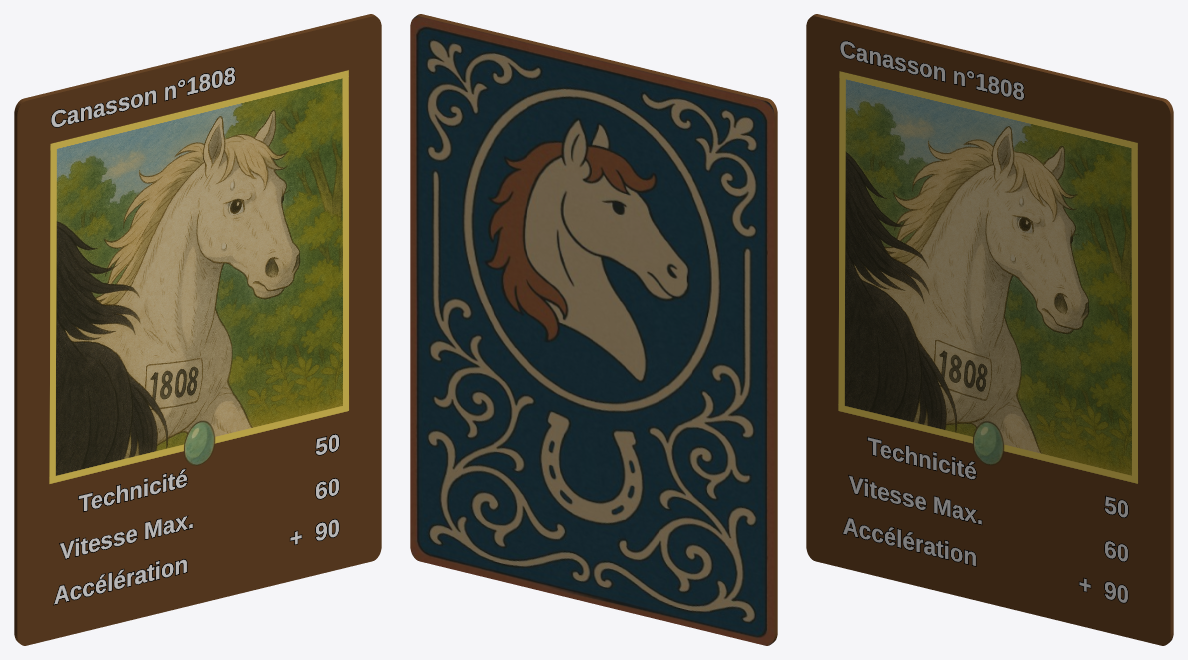
Rendered from Canasson1808.glb.
The picture shows the model from 3 angles, left to right: view 1: azimuth 30°, elevation 25°; view 2: azimuth 150°, elevation 25°; view 3: azimuth 330°, elevation 25°; orthographic projection.
Parts seen in each view (by area): view 1: Plane; view 2: Plane; view 3: Plane.
Boxes of the visible parts, box(x1,y1,x2,y2) form: Plane: box(14, 14, 381, 645); Plane: box(410, 14, 777, 645); Plane: box(806, 14, 1173, 645).
Size of the model in its own units: 3.5 by 5 by 0.05.
Materials: 2 (2 with a texture image).
